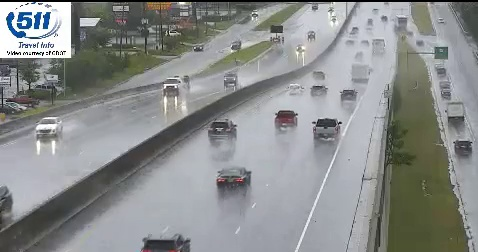car: (215, 167, 251, 190), (208, 121, 237, 142), (312, 118, 340, 139), (275, 110, 297, 128)
